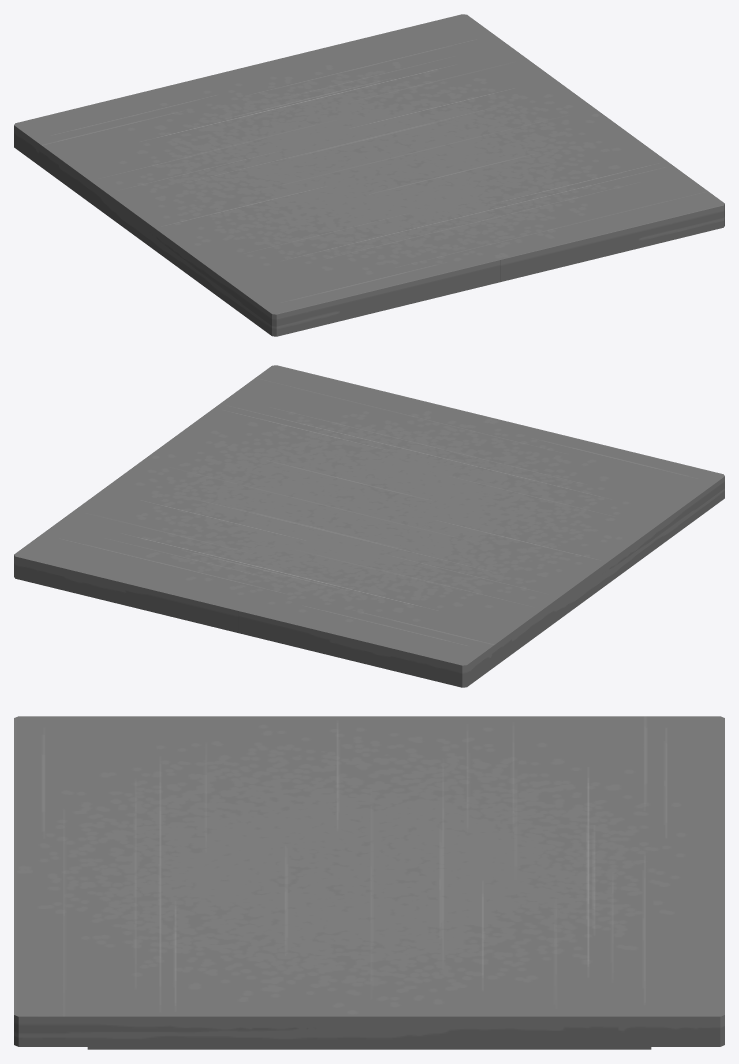
File: Crate_Lid.fbx
3 renders of one model, top to bottom at view 1: azimuth 30°, elevation 25°; view 2: azimuth 150°, elevation 25°; view 3: azimuth 270°, elevation 25°, orthographic. The views are drawn at different scales.
Parts seen in each view (by area): view 1: Crate_Lid; view 2: Crate_Lid; view 3: Crate_Lid.
Part boxes in pixels (box(x1,y1,x2,y2)): Crate_Lid: box(14, 14, 724, 336); Crate_Lid: box(14, 365, 724, 687); Crate_Lid: box(14, 716, 724, 1049).
Size of the model in its own units: 2449 by 244 by 2448.
